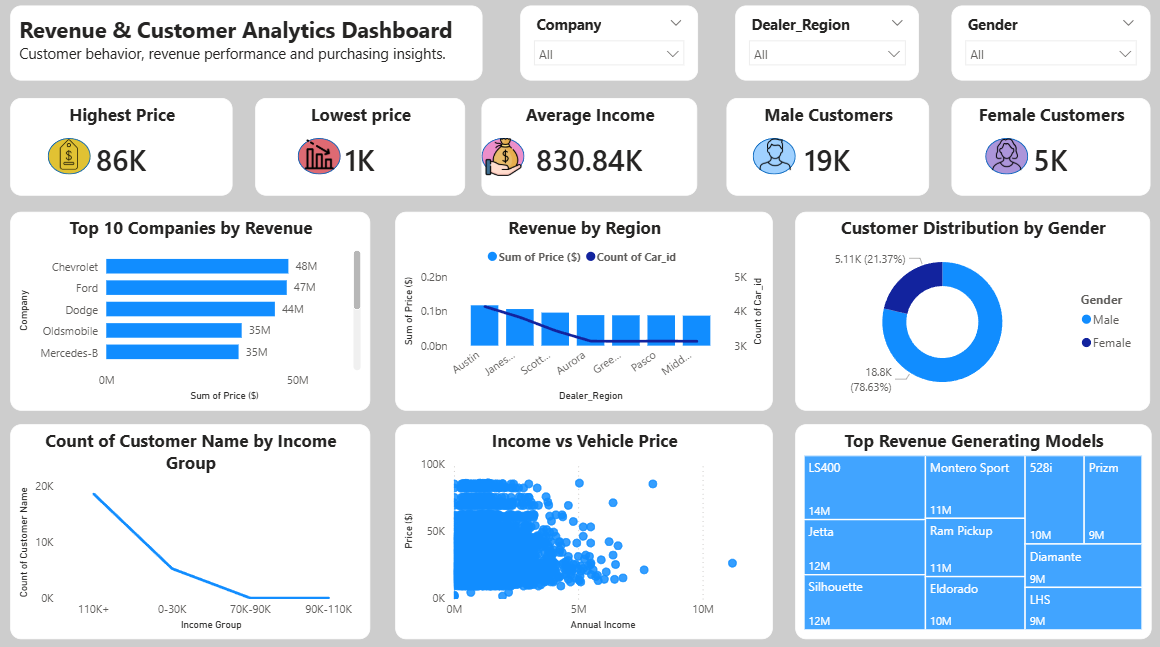

The page's visual inventory and layout, read from the dashboard file:
{"tool":"powerbi","page":{"name":"Page 2","canvas":[1280,720],"ordinal":1},"visuals":[{"type":"textbox","box":[17.8,13.7,518.7,82.3],"z":0},{"type":"slicer","fields":{"Values":["clean_car_sales.Company"]},"box":[577.7,13.7,194.9,82.3],"z":1000},{"type":"slicer","fields":{"Values":["clean_car_sales.Dealer_Region"]},"box":[813.7,13.7,201.7,82.3],"z":2000},{"type":"slicer","fields":{"Values":["clean_car_sales.Gender"]},"box":[1051.1,13.7,218.2,82.3],"z":3000},{"type":"cardVisual","title":"Highest Price","fields":{"Data":["clean_car_sales.Highest Price"]},"box":[17.8,115.3,244.3,107],"z":4000},{"type":"cardVisual","title":"Lowest price","fields":{"Data":["clean_car_sales.Lowest Price"]},"box":[286.8,115.3,230.5,107],"z":5000},{"type":"cardVisual","title":"Average Income","fields":{"Data":["clean_car_sales.Average Income"]},"box":[535.7,115.7,237.1,107.1],"z":6000},{"type":"cardVisual","title":"Male Customers","fields":{"Data":["clean_car_sales.Male Customers"]},"box":[804.1,115.3,222.3,107],"z":7000},{"type":"cardVisual","title":"Female Customers","fields":{"Data":["clean_car_sales.Female Customers"]},"box":[1051.1,115.3,218.2,107],"z":8000},{"type":"clusteredBarChart","title":"Top 10 Companies by Revenue","fields":{"Y":["Sum(clean_car_sales.Price ($))"],"Category":["clean_car_sales.Company"]},"box":[17.8,240.1,395.2,218.2],"z":9000},{"type":"lineClusteredColumnComboChart","title":"Revenue by Region","fields":{"Category":["clean_car_sales.Dealer_Region"],"Y2":["CountNonNull(clean_car_sales.Car_id)"],"Y":["Sum(clean_car_sales.Price ($))"]},"box":[440.5,240.1,414.4,218.2],"z":10000},{"type":"donutChart","title":"Customer Distribution by Gender","fields":{"Category":["clean_car_sales.Gender"],"Y":["CountNonNull(clean_car_sales.Customer Name)"]},"box":[879.6,240.1,389.7,218.2],"z":11000},{"type":"scatterChart","title":"Income vs Vehicle Price","fields":{"X":["clean_car_sales.Annual Income"],"Y":["clean_car_sales.Price ($)"]},"box":[440.5,473.4,414.4,236],"z":12000},{"type":"lineChart","fields":{"Category":["clean_car_sales.Income Group"],"Y":["CountNonNull(clean_car_sales.Customer Name)"]},"box":[17.8,473.4,395.2,236],"z":13000},{"type":"treemap","title":"Top Revenue Generating Models","fields":{"Group":["clean_car_sales.Model"],"Values":["Sum(clean_car_sales.Price ($))"]},"box":[879.6,473.4,391.1,236],"z":14000},{"type":"shape","box":[58.6,158.6,47.1,40],"z":15000},{"type":"shape","box":[332.9,158.6,47.1,40],"z":16000},{"type":"shape","box":[535.7,158.6,47.1,40],"z":17000},{"type":"shape","box":[832.9,158.6,47.1,40],"z":18000},{"type":"shape","box":[1088.6,158.6,47.1,40],"z":19000},{"type":"image","box":[22.9,158.6,117.1,35.7],"z":20000},{"type":"image","box":[332.9,158.6,47.1,35.7],"z":21000},{"type":"image","box":[537.1,158.6,45.7,41.4],"z":22000},{"type":"image","box":[824.3,158.6,65.7,35.7],"z":23000},{"type":"image","box":[1085.7,158.6,52.9,35.7],"z":24000}]}

Visuals, with their boxes in screenshot pixels (x1, y1, x2, y2), scaled from the page's 1280x720 canvas onto the 1160x647 screenshot:
textbox: region(16, 12, 486, 86)
slicer - clean_car_sales.Company: region(524, 12, 700, 86)
slicer - clean_car_sales.Dealer_Region: region(737, 12, 920, 86)
slicer - clean_car_sales.Gender: region(953, 12, 1150, 86)
"Highest Price" cardVisual: region(16, 104, 238, 200)
"Lowest price" cardVisual: region(260, 104, 469, 200)
"Average Income" cardVisual: region(485, 104, 700, 200)
"Male Customers" cardVisual: region(729, 104, 930, 200)
"Female Customers" cardVisual: region(953, 104, 1150, 200)
"Top 10 Companies by Revenue" clusteredBarChart: region(16, 216, 374, 412)
"Revenue by Region" lineClusteredColumnComboChart: region(399, 216, 775, 412)
"Customer Distribution by Gender" donutChart: region(797, 216, 1150, 412)
"Income vs Vehicle Price" scatterChart: region(399, 425, 775, 637)
lineChart - clean_car_sales.Income Group x CountNonNull(clean_car_sales.Customer Name): region(16, 425, 374, 637)
"Top Revenue Generating Models" treemap: region(797, 425, 1152, 637)
shape: region(53, 143, 96, 178)
shape: region(302, 143, 344, 178)
shape: region(485, 143, 528, 178)
shape: region(755, 143, 798, 178)
shape: region(987, 143, 1029, 178)
image: region(21, 143, 127, 175)
image: region(302, 143, 344, 175)
image: region(487, 143, 528, 180)
image: region(747, 143, 807, 175)
image: region(984, 143, 1032, 175)
